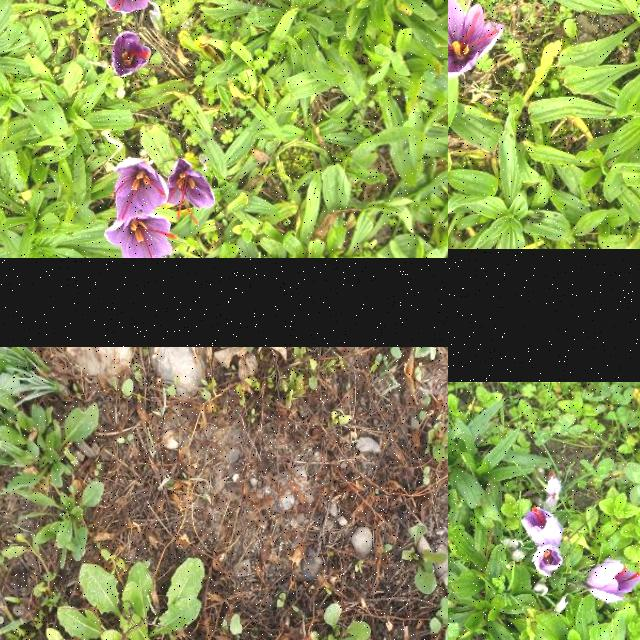flower: (448, 0, 505, 77), (114, 158, 168, 222), (168, 156, 216, 224), (104, 215, 178, 259), (588, 559, 640, 604), (112, 32, 152, 78), (520, 506, 564, 546), (530, 544, 564, 578)
